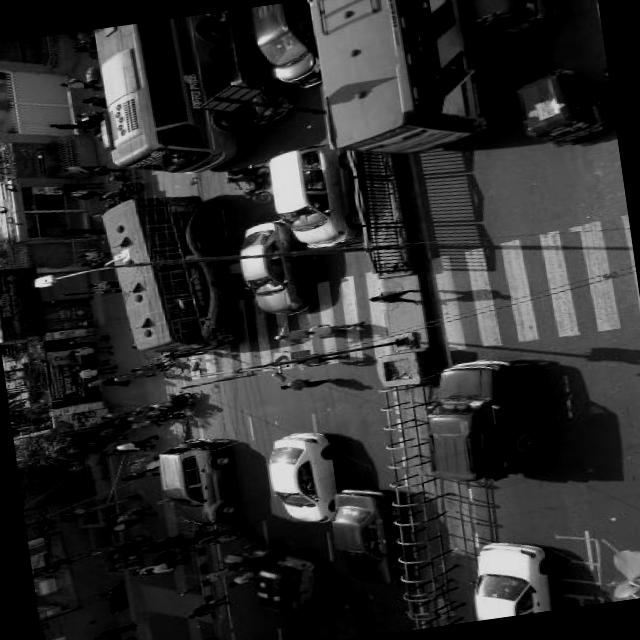bus: (307, 0, 493, 167), (95, 182, 246, 366), (90, 10, 248, 184)
car: (414, 344, 548, 492), (324, 477, 412, 593), (456, 526, 560, 622), (150, 431, 247, 532), (233, 212, 322, 322), (260, 424, 348, 530), (245, 0, 322, 93)
motorcycle: (506, 57, 614, 155), (246, 548, 333, 616), (455, 0, 565, 44), (145, 383, 199, 425)
truck: (260, 138, 368, 258)
